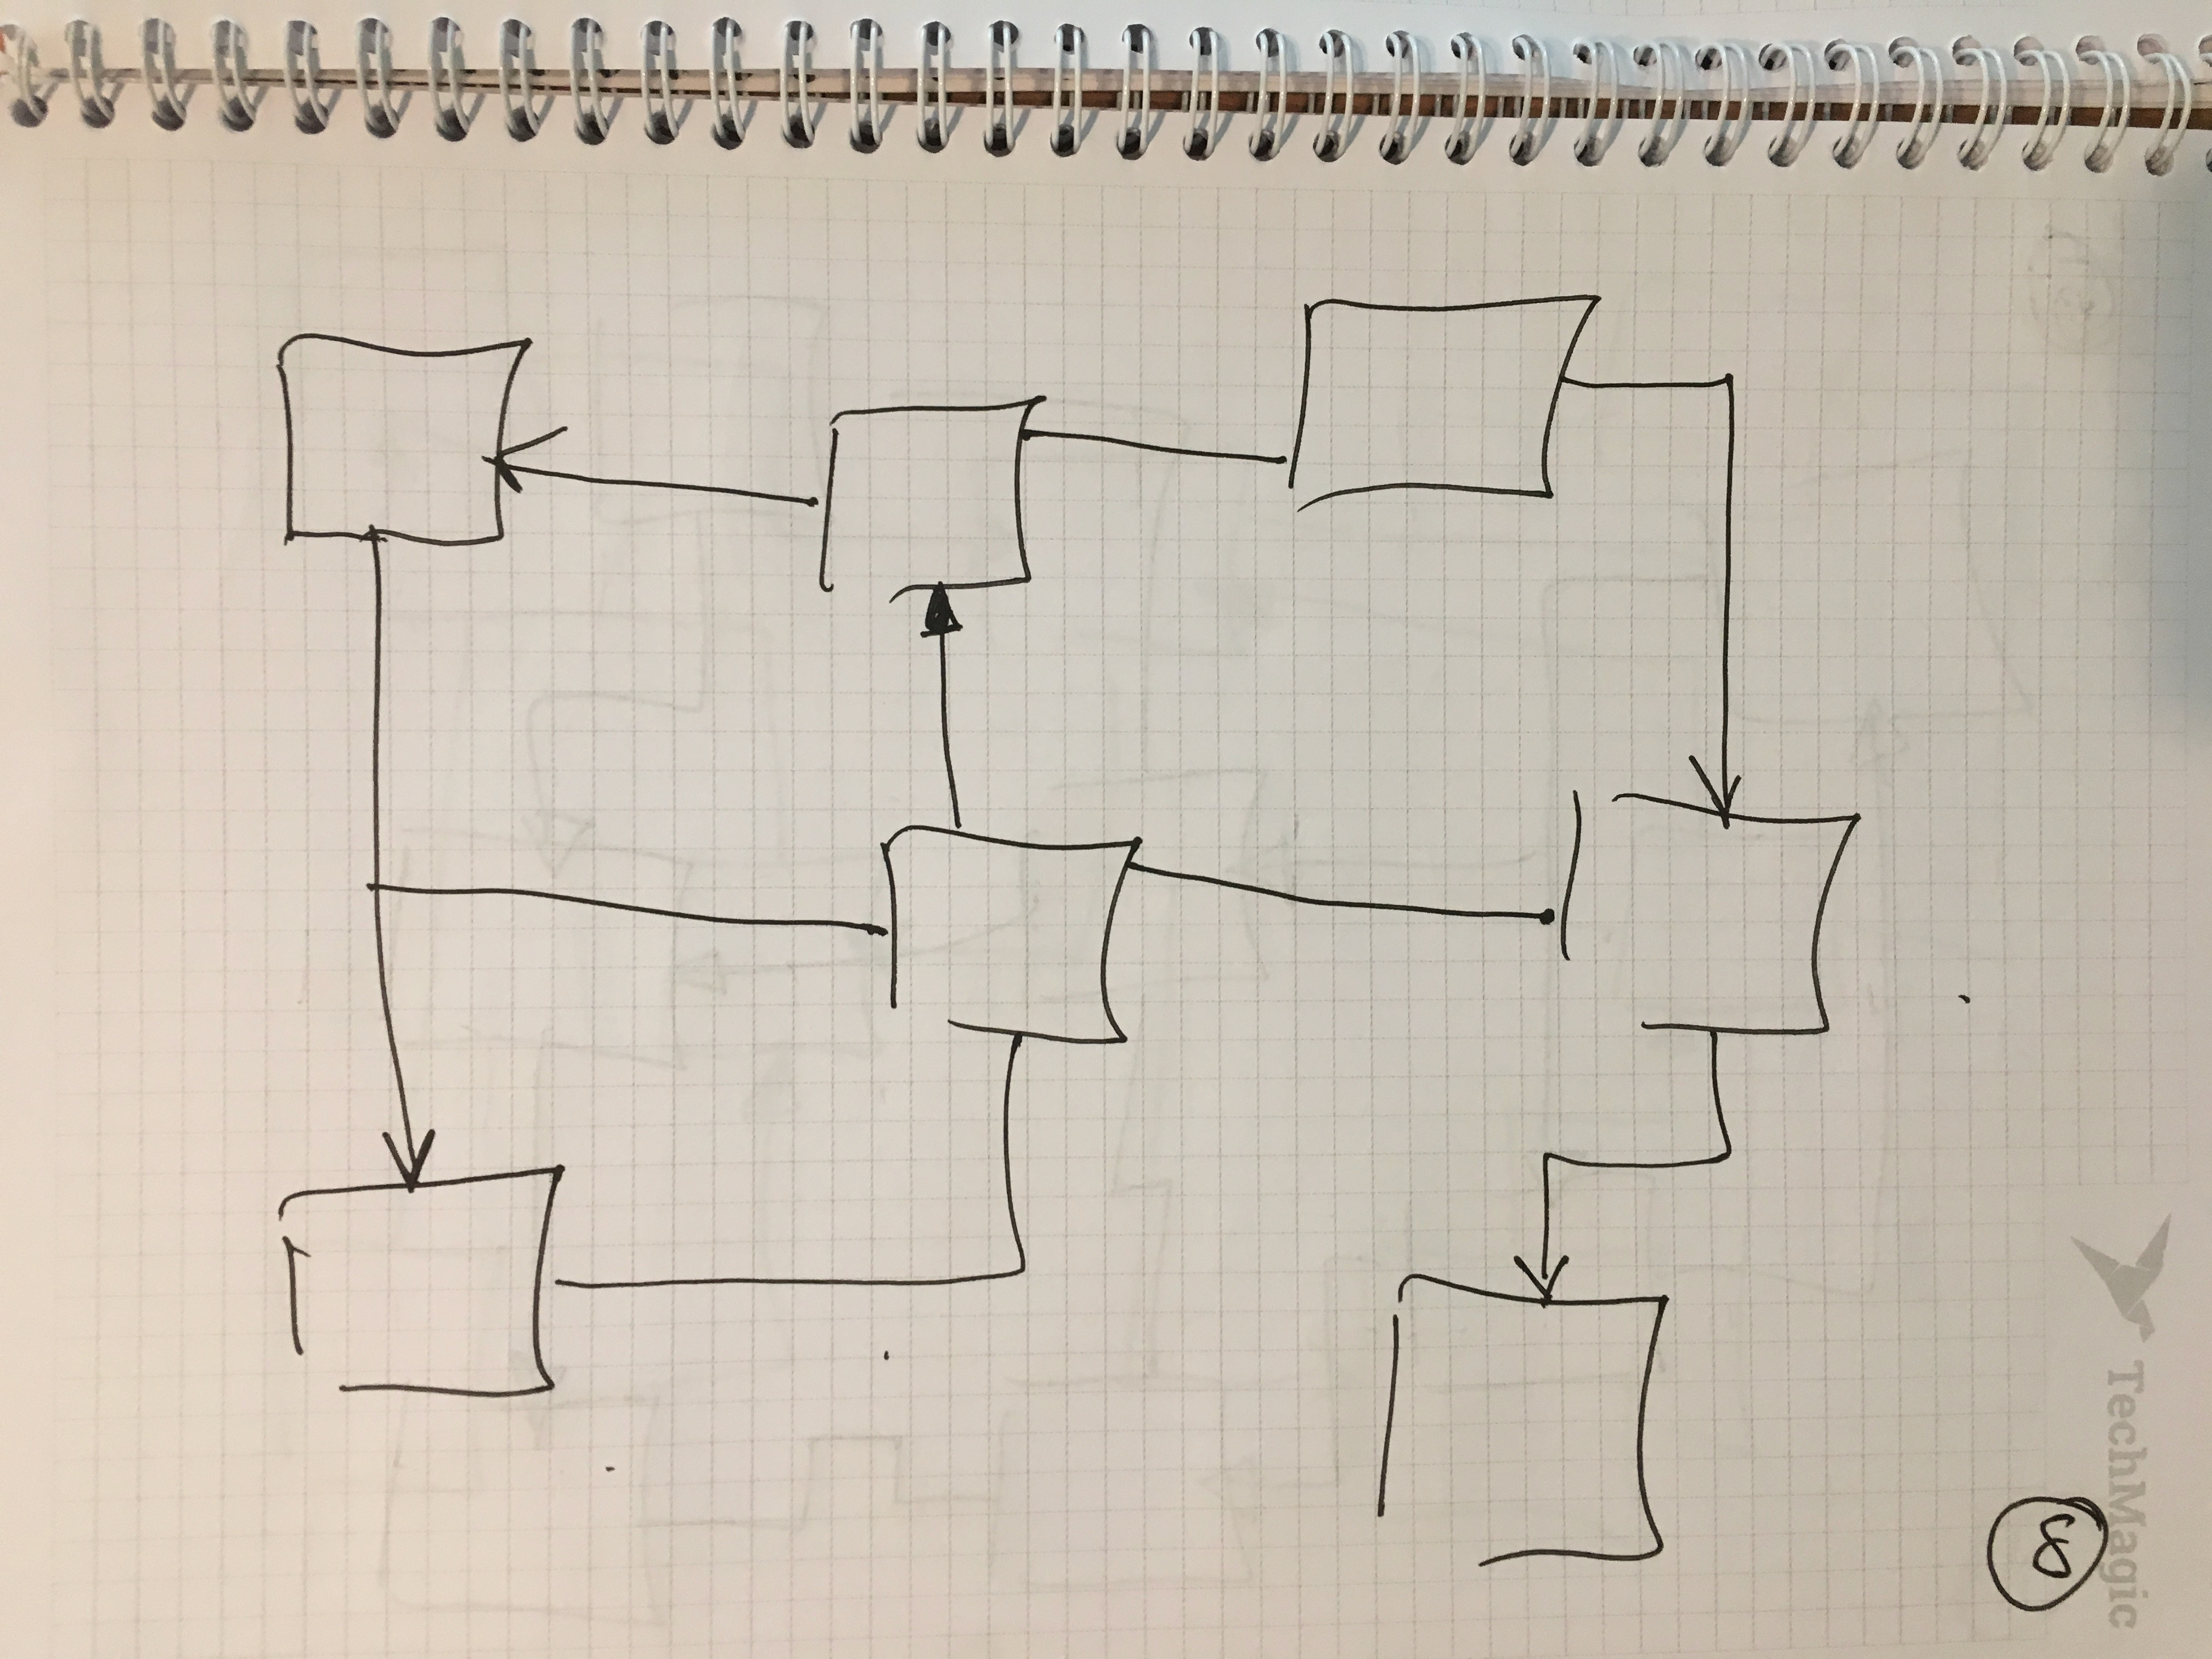arrow: (477, 418, 634, 505), (906, 568, 968, 713), (1684, 699, 1743, 843), (1510, 1218, 1580, 1330), (374, 1100, 449, 1201)
